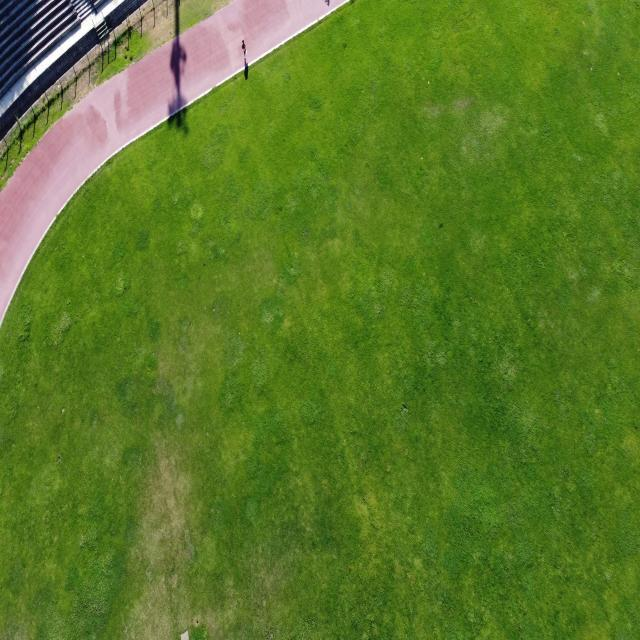vehicle: (242, 39, 247, 61)
